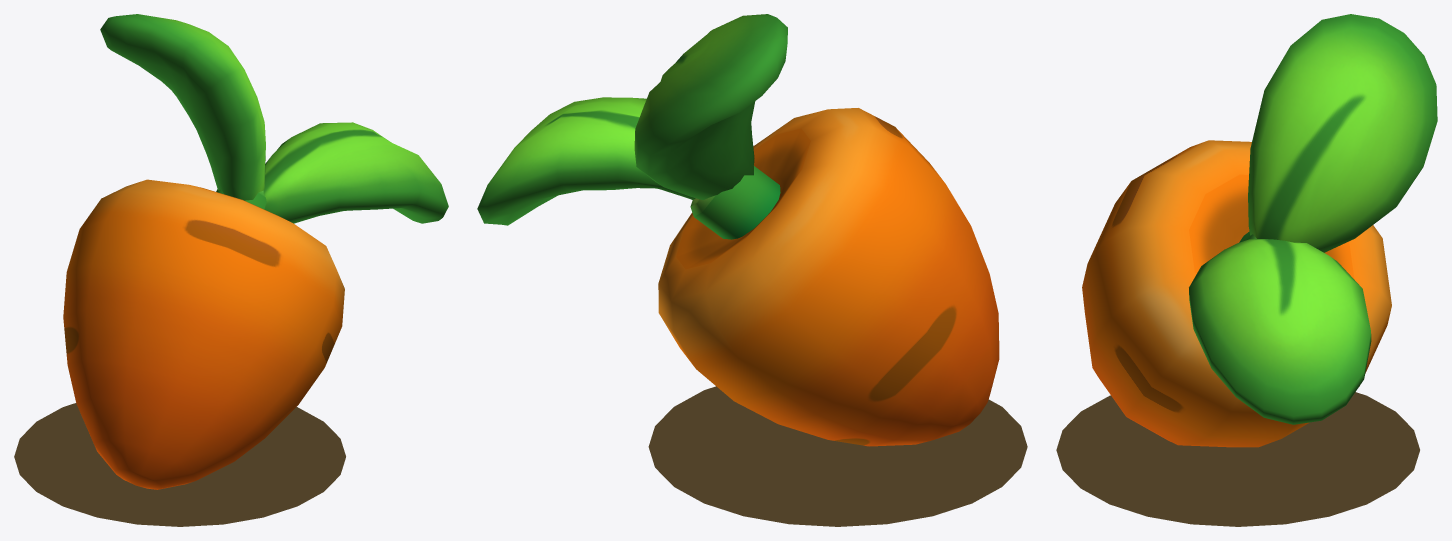
Rendered from Carrot_L04.fbx.
The picture shows the model from 3 angles, left to right: view 1: azimuth 30°, elevation 25°; view 2: azimuth 150°, elevation 25°; view 3: azimuth 270°, elevation 25°; orthographic projection. The views are drawn at different scales.
Parts seen in each view (by area): view 1: Carrot_L04_body, WT_CarrotL4_SDW; view 2: Carrot_L04_body, WT_CarrotL4_SDW; view 3: Carrot_L04_body, WT_CarrotL4_SDW.
Part boxes in pixels (left/top/right/bottom): Carrot_L04_body: left=63, top=14, right=448, bottom=489; WT_CarrotL4_SDW: left=14, top=403, right=345, bottom=526; Carrot_L04_body: left=477, top=14, right=999, bottom=446; WT_CarrotL4_SDW: left=648, top=386, right=1027, bottom=526; Carrot_L04_body: left=1082, top=14, right=1437, bottom=447; WT_CarrotL4_SDW: left=1056, top=392, right=1419, bottom=526.
Bounding box in the file's own units: 74.06 × 66.94 × 52.74.
Materials: 2 (1 with a texture image).
